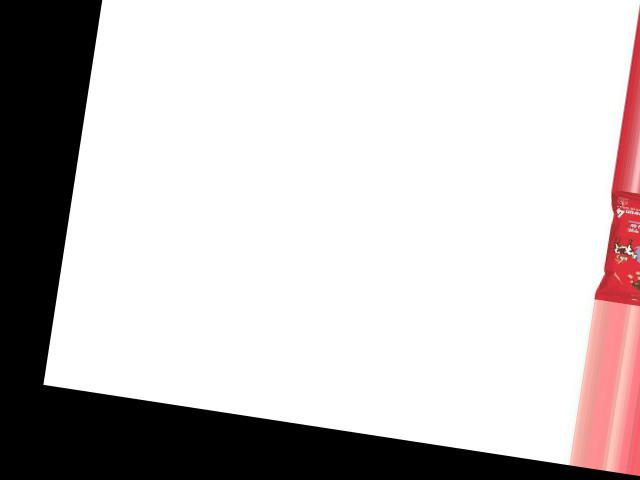chocolate: (597, 188, 640, 311)
